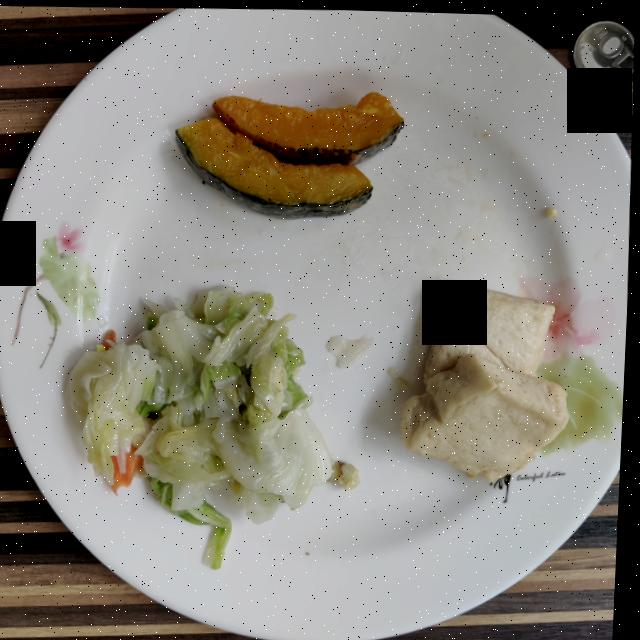cabbage: (69, 285, 363, 566)
coin: (574, 17, 634, 82)
creamy tofu -without sauce-: (405, 279, 572, 478)
pumpkin: (178, 89, 403, 214)
